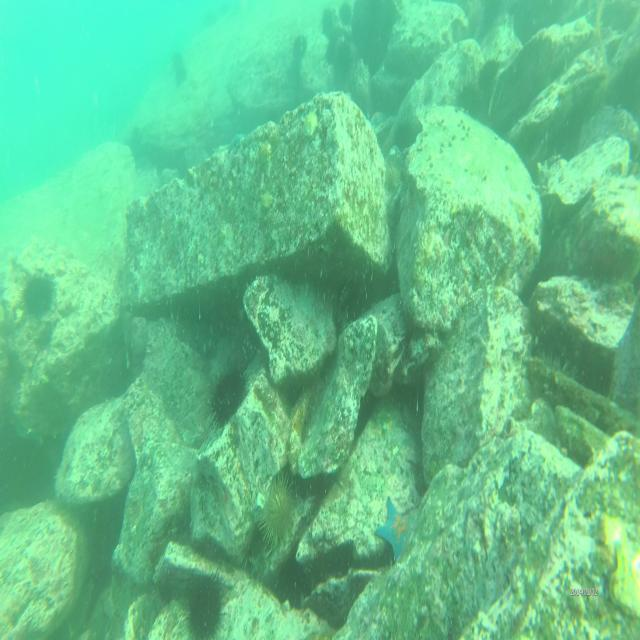echinus: (205, 358, 254, 437), (256, 470, 300, 550), (184, 569, 228, 640), (18, 268, 57, 318), (393, 113, 419, 155), (333, 36, 354, 87), (171, 45, 191, 84), (293, 30, 309, 66), (320, 5, 337, 38), (340, 0, 354, 25)
scallop: (256, 135, 275, 166), (302, 108, 319, 138)
starfish: (373, 492, 418, 564)
